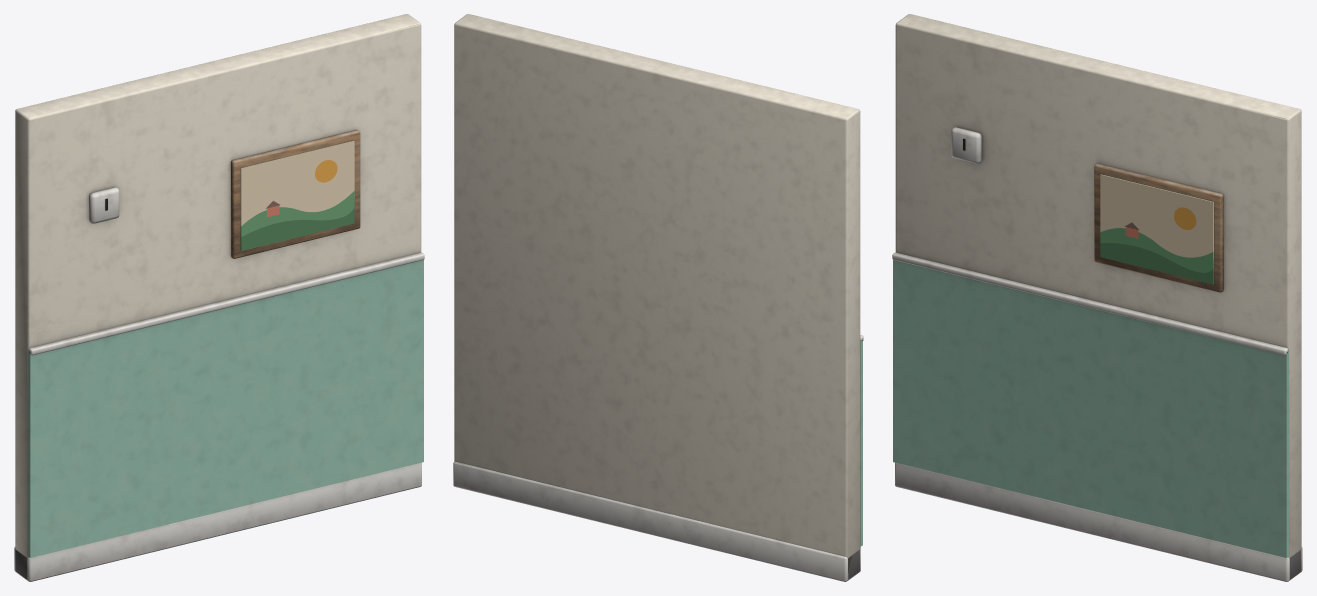
The model's file is wall_panel.fbx.
3 renders of one model, left to right at view 1: azimuth 30°, elevation 25°; view 2: azimuth 150°, elevation 25°; view 3: azimuth 330°, elevation 25°, orthographic.
Parts seen in each view (by area): view 1: Body, Screen; view 2: Body; view 3: Body, Screen.
Boxes of the visible parts, box(x1,y1,x2,y2) form: Body: box(14, 14, 424, 581); Screen: box(240, 140, 354, 250); Body: box(453, 14, 863, 581); Body: box(892, 14, 1302, 581); Screen: box(1100, 174, 1213, 284).
Size of the model in its own units: 8 by 9 by 0.69.
Materials: 2 (2 with a texture image).
